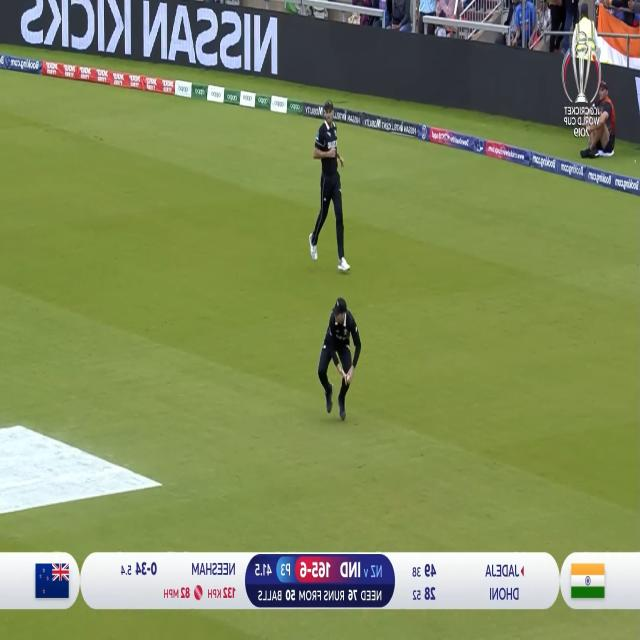ball: (344, 369, 350, 385)
